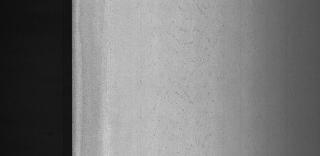silk spot: (142, 0, 232, 146)
